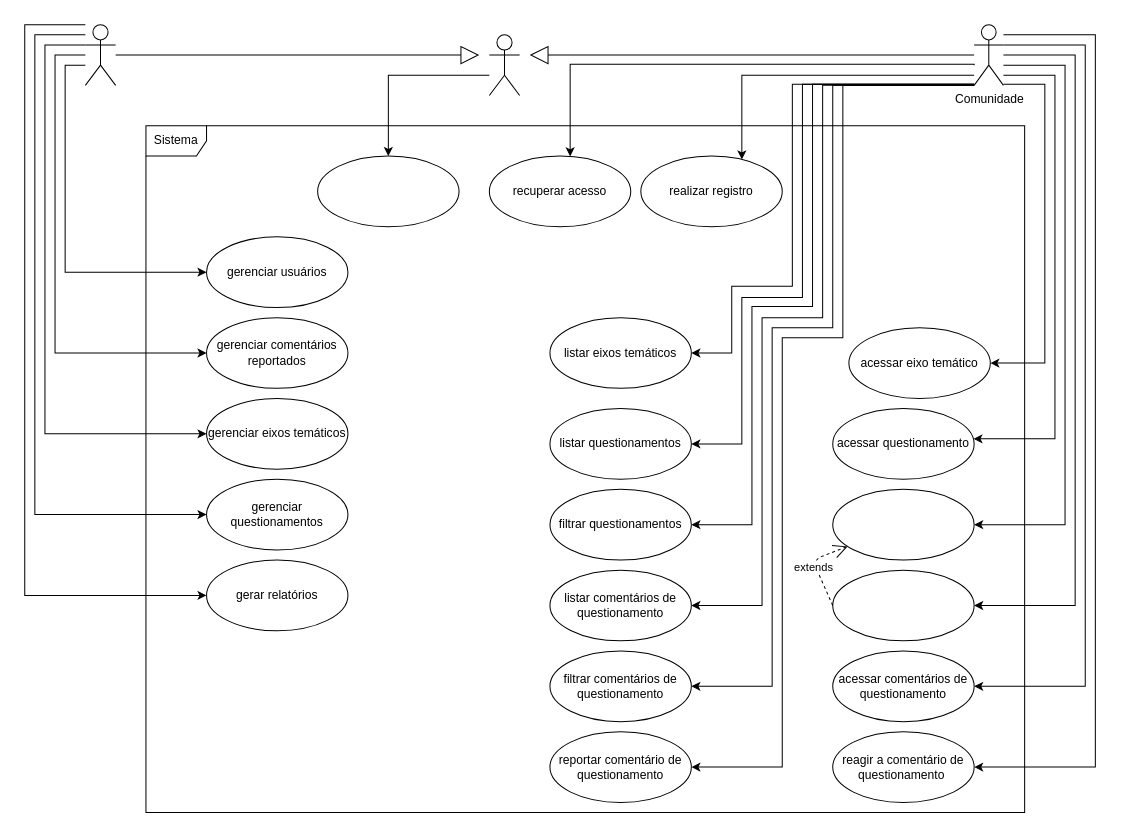
Some shapes in this 1121 by 830 pixel diagram are drawn without their labels. Each missing label, with the centre of its shape:
"comentar voto realizado em questionamento" belongs at (903,605).
"Gestor" belongs at (100,54).
"realizar acesso" belongs at (388,191).
"Usuário" belongs at (504,64).
"votar em questionamento" belongs at (903,524).
